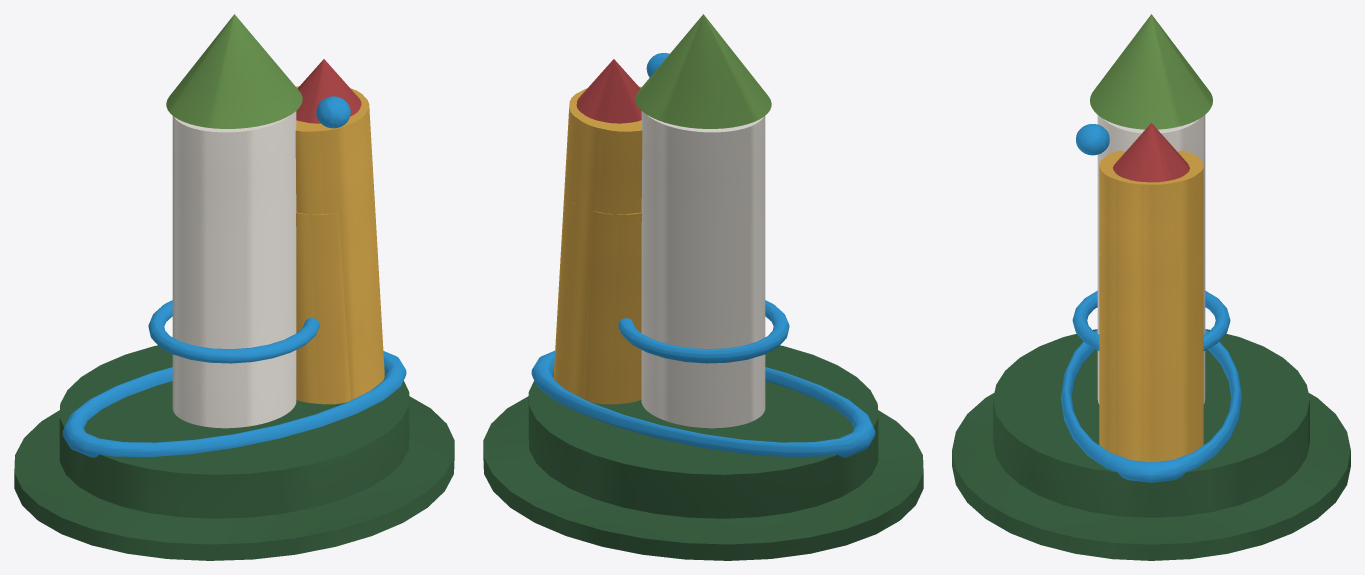
File: 0665_史前人类图鉴_骨柄石刃刀.glb
The picture shows the model from 3 angles, left to right: view 1: azimuth 30°, elevation 25°; view 2: azimuth 150°, elevation 25°; view 3: azimuth 270°, elevation 25°; orthographic projection.
Parts seen in each view (by area): view 1: card_0665; view 2: card_0665; view 3: card_0665.
Boxes of the visible parts, x1=… form: card_0665: x1=14, y1=14, x2=454, y2=560; card_0665: x1=483, y1=14, x2=923, y2=560; card_0665: x1=952, y1=14, x2=1350, y2=560.
Bounding box in the file's own units: 0.8959 × 1 × 0.799.
